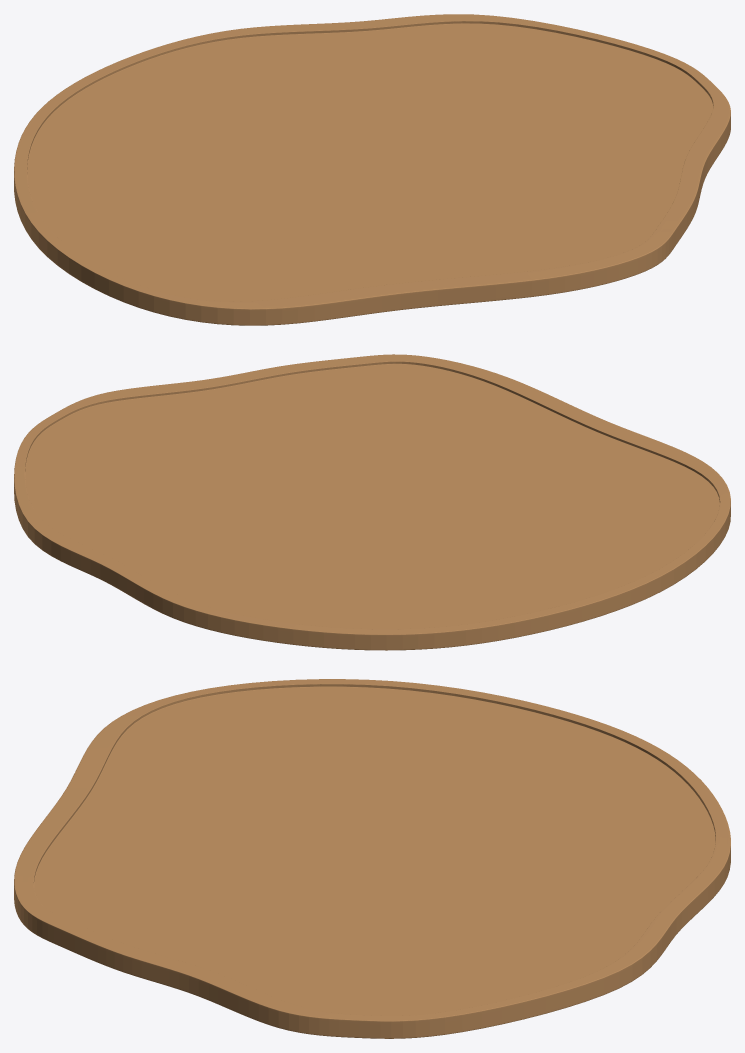
File: Trefoil.obj
3 renders of one model, top to bottom at view 1: azimuth 30°, elevation 25°; view 2: azimuth 150°, elevation 25°; view 3: azimuth 270°, elevation 25°, orthographic. The views are drawn at different scales.
Parts seen in each view (by area): view 1: Trefoil.001_Cube.010; view 2: Trefoil.001_Cube.010; view 3: Trefoil.001_Cube.010.
Part boxes in pixels (<box>): Trefoil.001_Cube.010: <box>14,14,730,325</box>; Trefoil.001_Cube.010: <box>14,354,730,650</box>; Trefoil.001_Cube.010: <box>14,679,730,1038</box>.
Size of the model in its own units: 0.5795 by 0.0142 by 0.5131.
